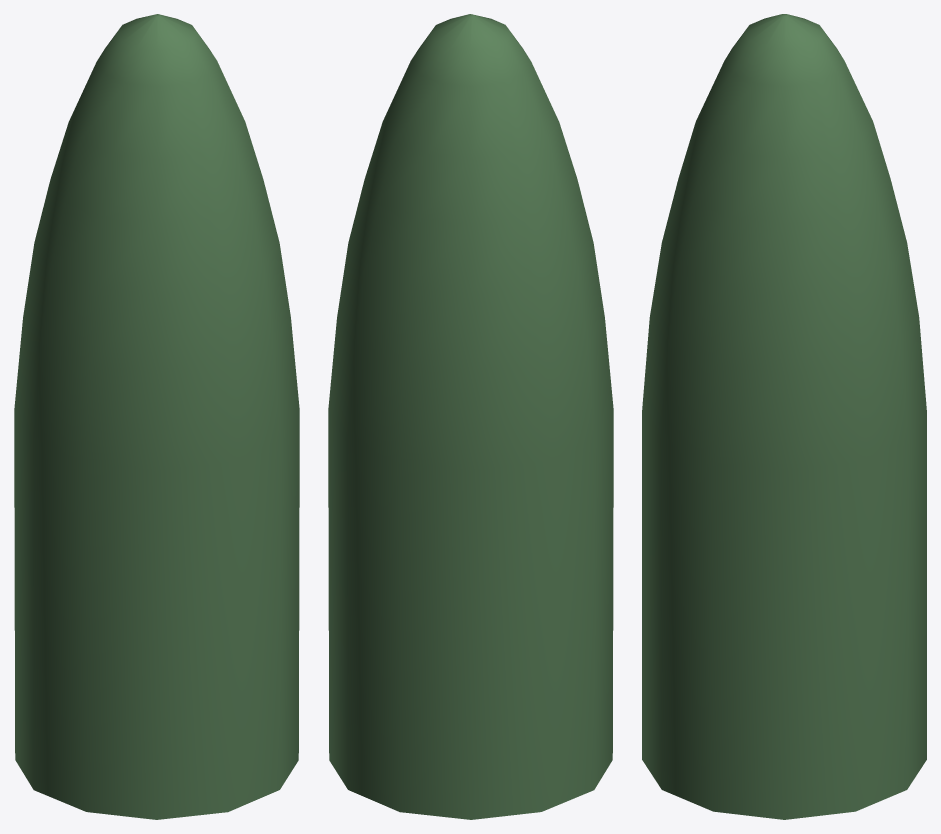
Rendered from Snake_Plant_Analytical_0.obj.
3 views of the same model, side by side, from view 1: azimuth 30°, elevation 25°; view 2: azimuth 150°, elevation 25°; view 3: azimuth 270°, elevation 25° (orthographic).
Visible parts, largest first — view 1: AnalyticalCrown; view 2: AnalyticalCrown; view 3: AnalyticalCrown.
Part boxes in pixels (x1=…): AnalyticalCrown: x1=14, y1=14, x2=299, y2=819; AnalyticalCrown: x1=328, y1=14, x2=613, y2=819; AnalyticalCrown: x1=642, y1=14, x2=926, y2=819.
Bounding box in the file's own units: 0.26 × 0.75 × 0.26.
